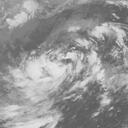cyclone: (11, 23, 117, 106)
